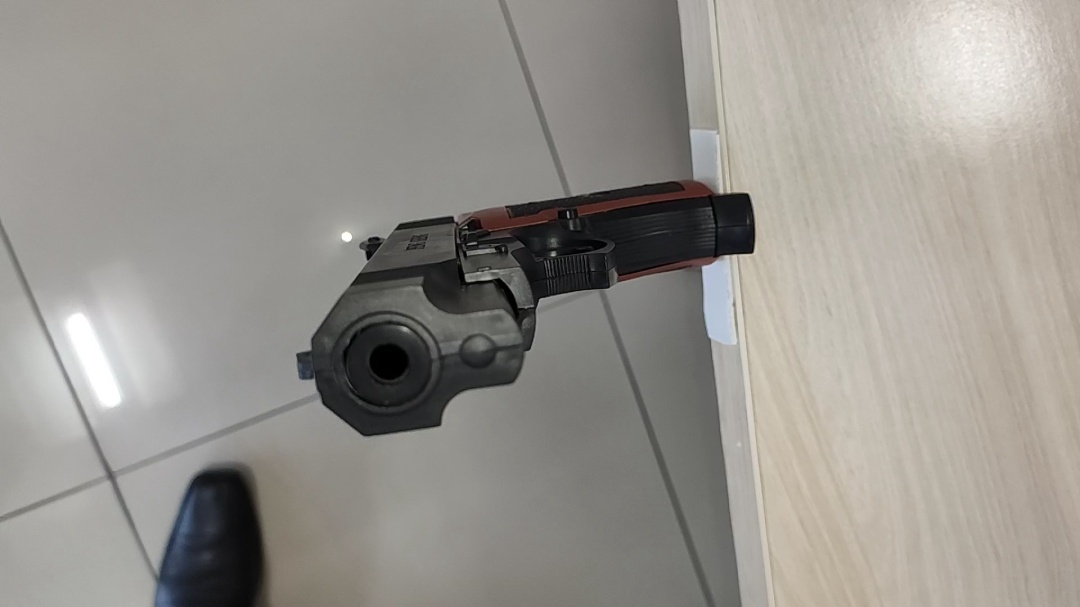gun: (298, 179, 758, 440)
